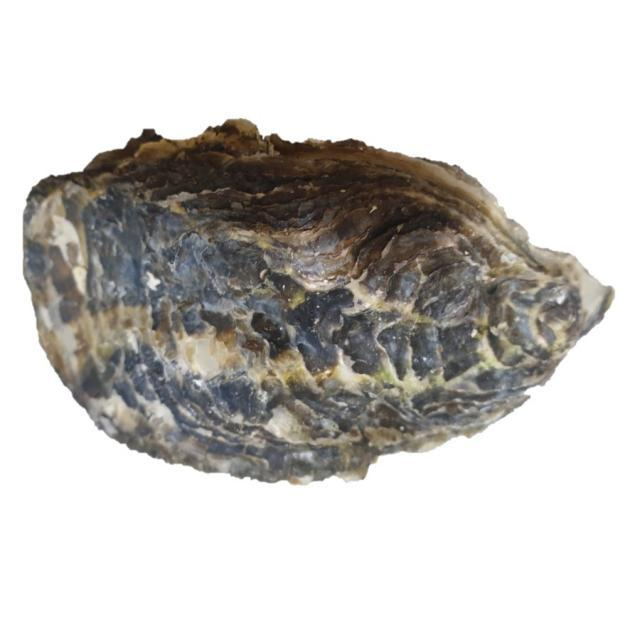Oyster- Indeterminate: (19, 117, 618, 490)
